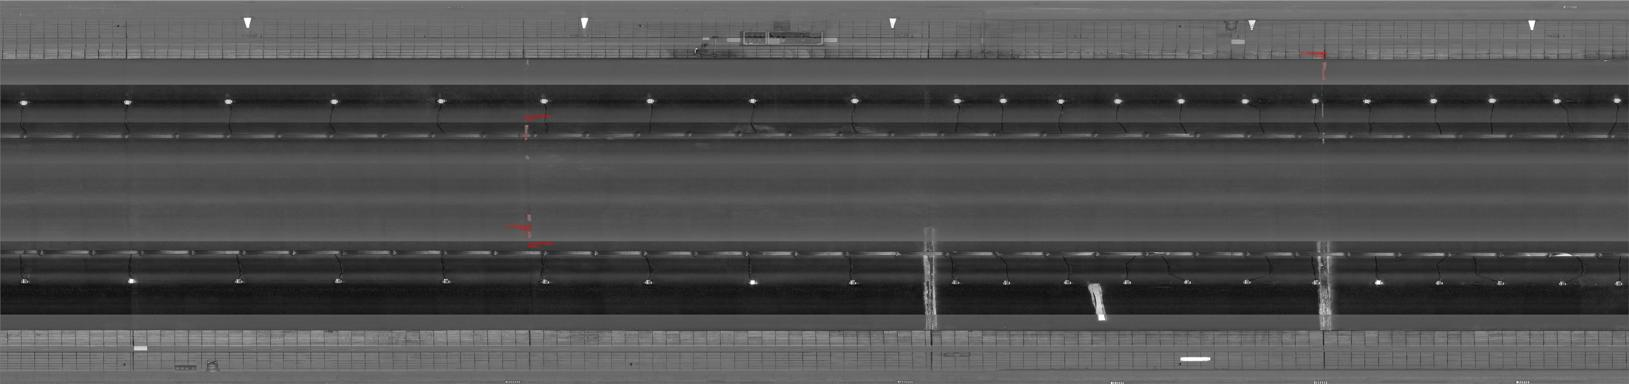light: (842, 94, 867, 108), (741, 274, 764, 289), (15, 273, 35, 289), (229, 274, 250, 289), (436, 274, 458, 289), (122, 273, 141, 289), (534, 94, 556, 108), (744, 93, 764, 108), (638, 275, 659, 289), (329, 274, 349, 287), (324, 95, 344, 109), (641, 94, 661, 108), (1177, 275, 1197, 289), (1609, 275, 1625, 292), (432, 94, 451, 108), (115, 97, 137, 108), (842, 277, 863, 289), (14, 97, 33, 109), (219, 95, 239, 108), (1235, 94, 1255, 107), (1555, 274, 1572, 289), (1370, 275, 1388, 289), (1547, 93, 1565, 107), (1431, 276, 1449, 289), (1424, 94, 1443, 107), (1109, 94, 1127, 107), (1483, 94, 1502, 106), (536, 277, 555, 289), (1118, 277, 1137, 289), (1061, 276, 1077, 289), (1052, 94, 1069, 107), (1608, 94, 1625, 107), (994, 95, 1012, 107), (949, 94, 967, 105), (947, 277, 964, 289), (997, 277, 1014, 289), (1238, 277, 1255, 289), (1306, 93, 1323, 105), (1172, 95, 1189, 107), (1493, 277, 1508, 289), (1360, 95, 1376, 107), (1307, 277, 1321, 289)
